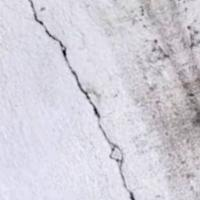crack: (28, 2, 128, 179)
